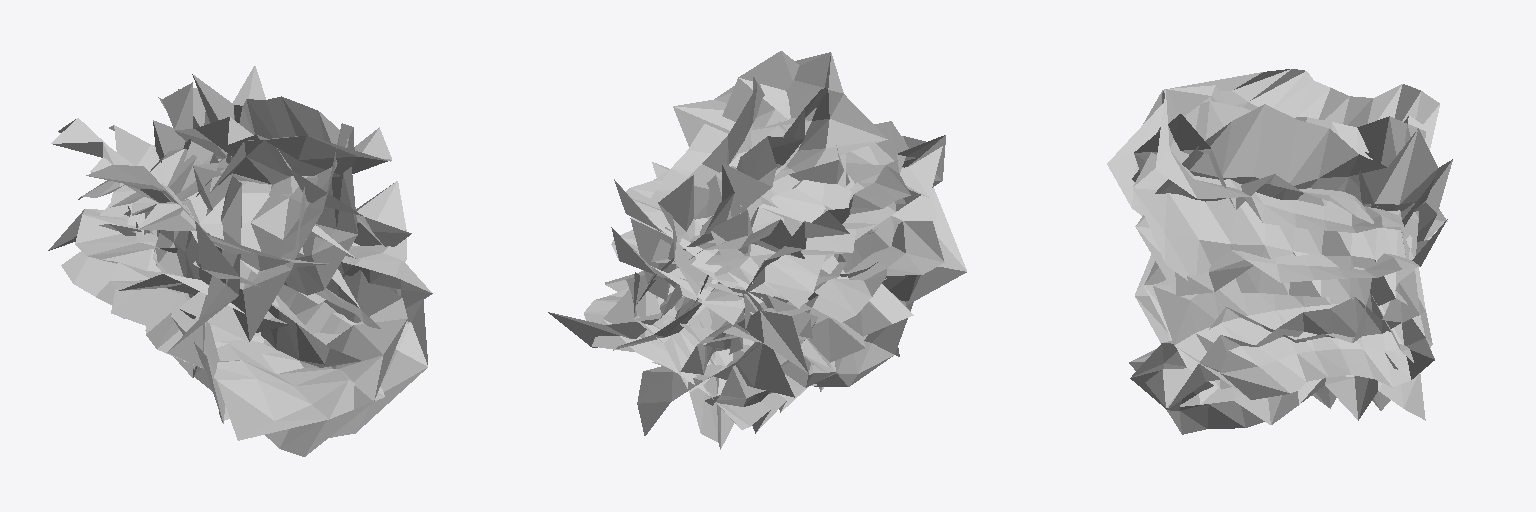
3 renders of one model, left to right at view 1: azimuth 30°, elevation 25°; view 2: azimuth 150°, elevation 25°; view 3: azimuth 270°, elevation 25°, orthographic.
Visible parts, largest first — view 1: RS15v2; view 2: RS15v2; view 3: RS15v2.
Boxes of the visible parts, x1=… form: RS15v2: x1=48, y1=66, x2=432, y2=456; RS15v2: x1=548, y1=51, x2=966, y2=449; RS15v2: x1=1107, y1=69, x2=1452, y2=434.
Bounding box in the file's own units: 2.4 × 2.39 × 2.29.